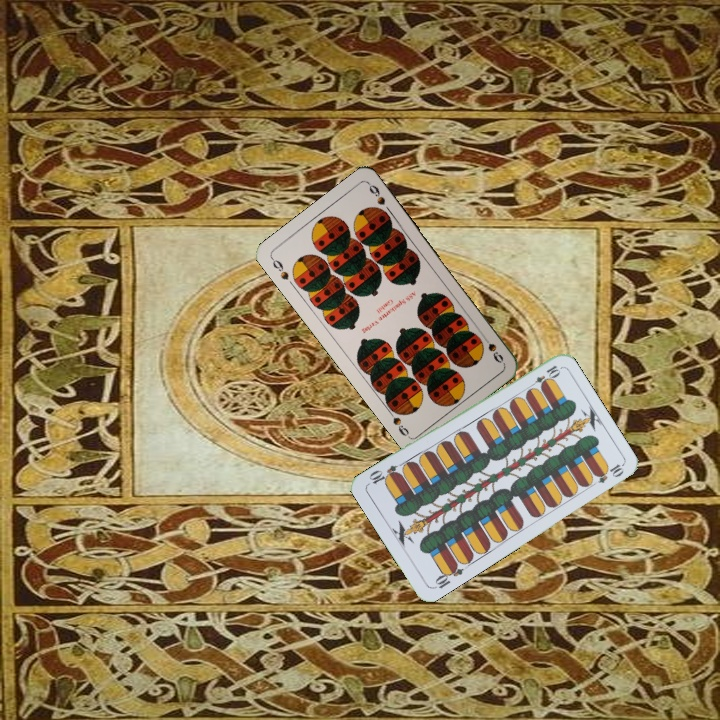E10: (429, 559, 466, 591), (525, 361, 562, 391)
S9: (478, 330, 506, 366), (267, 254, 292, 283)
